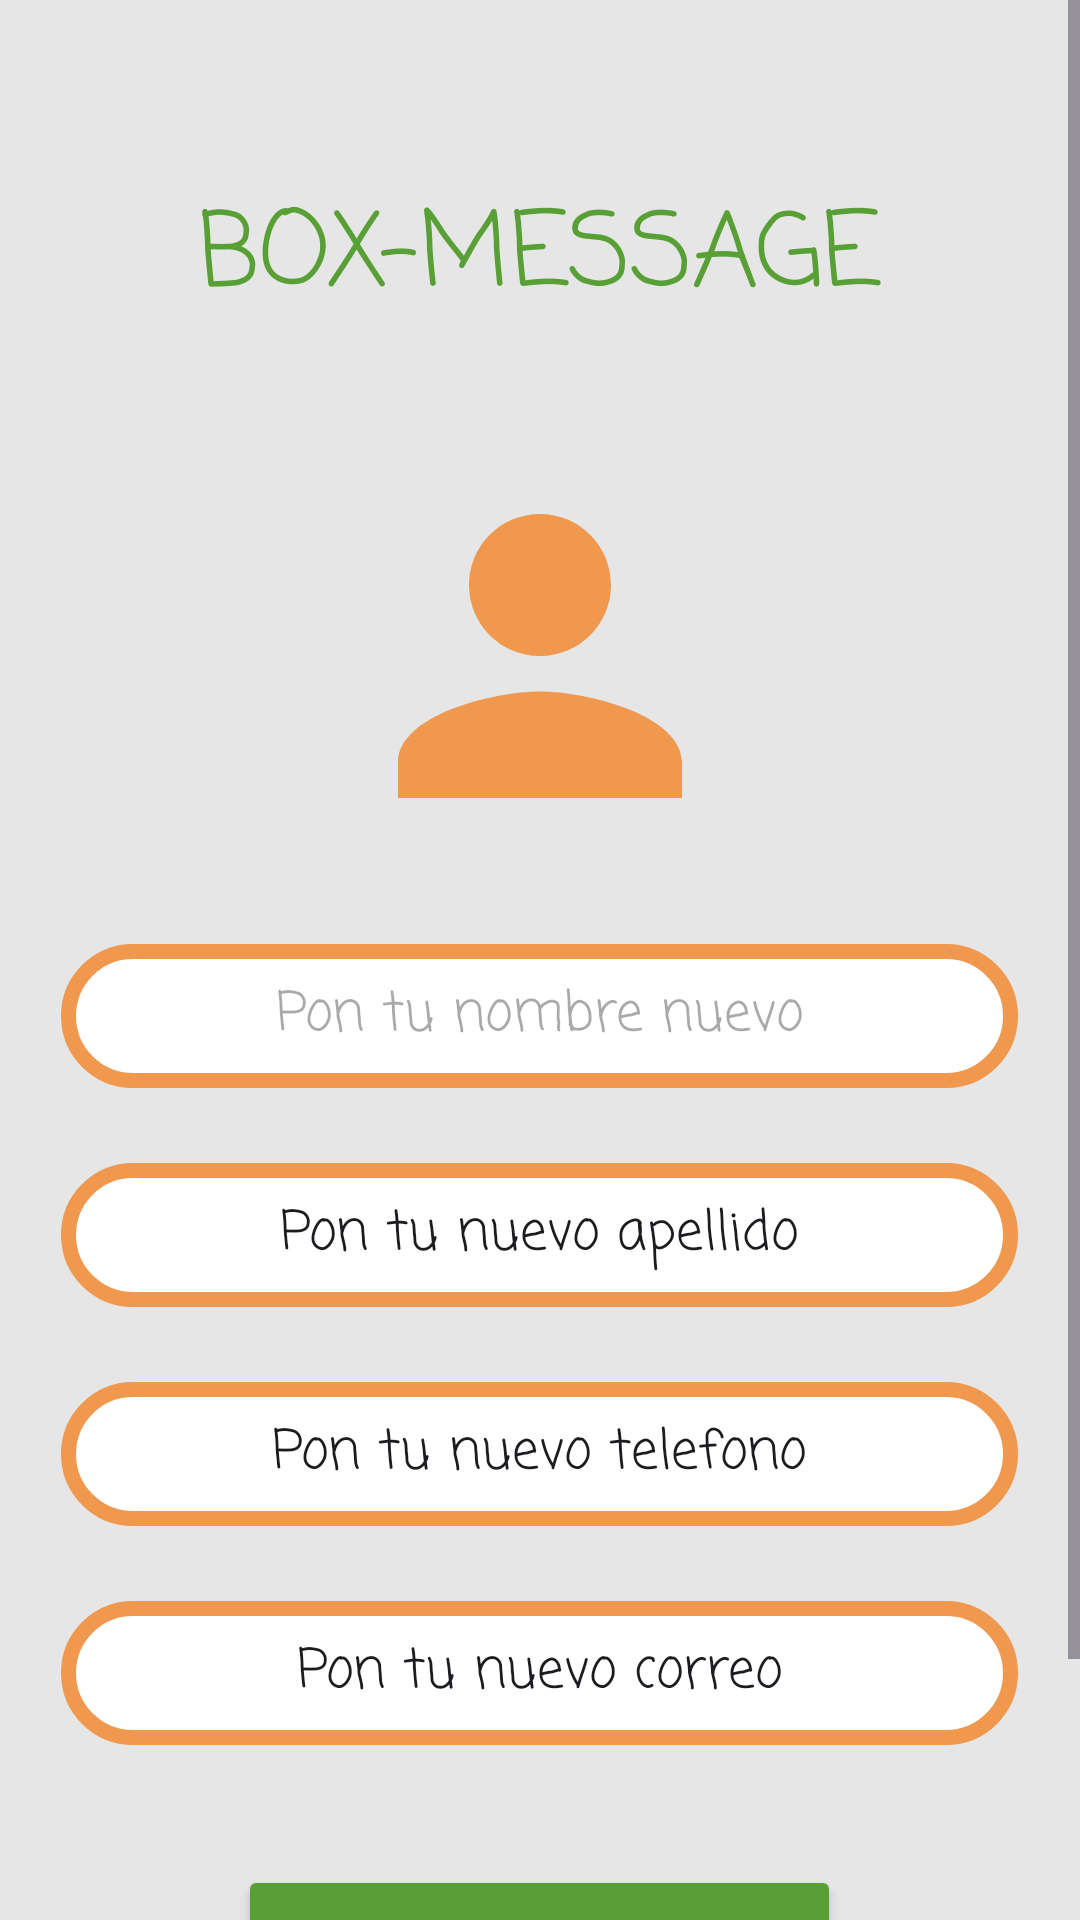

Screen size 1080*1920. Icon name, then its center in pixels as (x=x, y=y):
perfil: (x=540, y=656)
